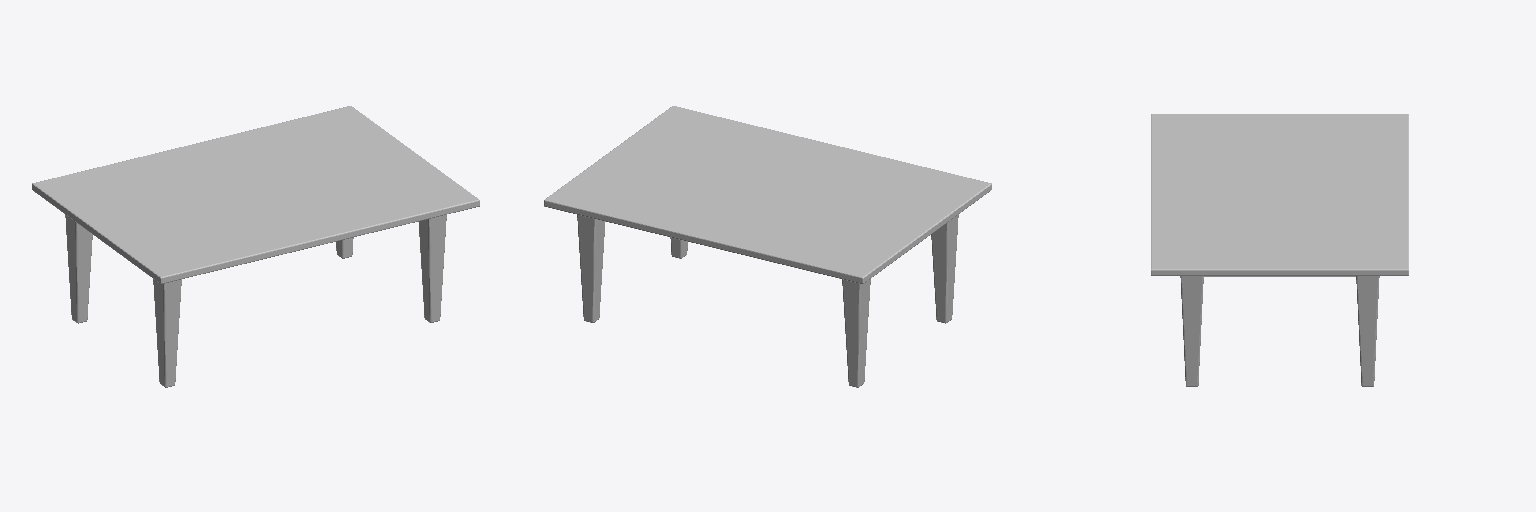
File: 002_Table.obj
The picture shows the model from 3 angles: view 1: azimuth 30°, elevation 25°; view 2: azimuth 150°, elevation 25°; view 3: azimuth 270°, elevation 25°; orthographic projection.
Parts seen in each view (by area): view 1: Cube; view 2: Cube; view 3: Cube.
Boxes of the visible parts, x1,y1,x2,y2 form: Cube: [32, 106, 479, 387]; Cube: [544, 106, 991, 387]; Cube: [1151, 114, 1408, 386].
Bounding box in the file's own units: 2 × 0.7719 × 1.4.